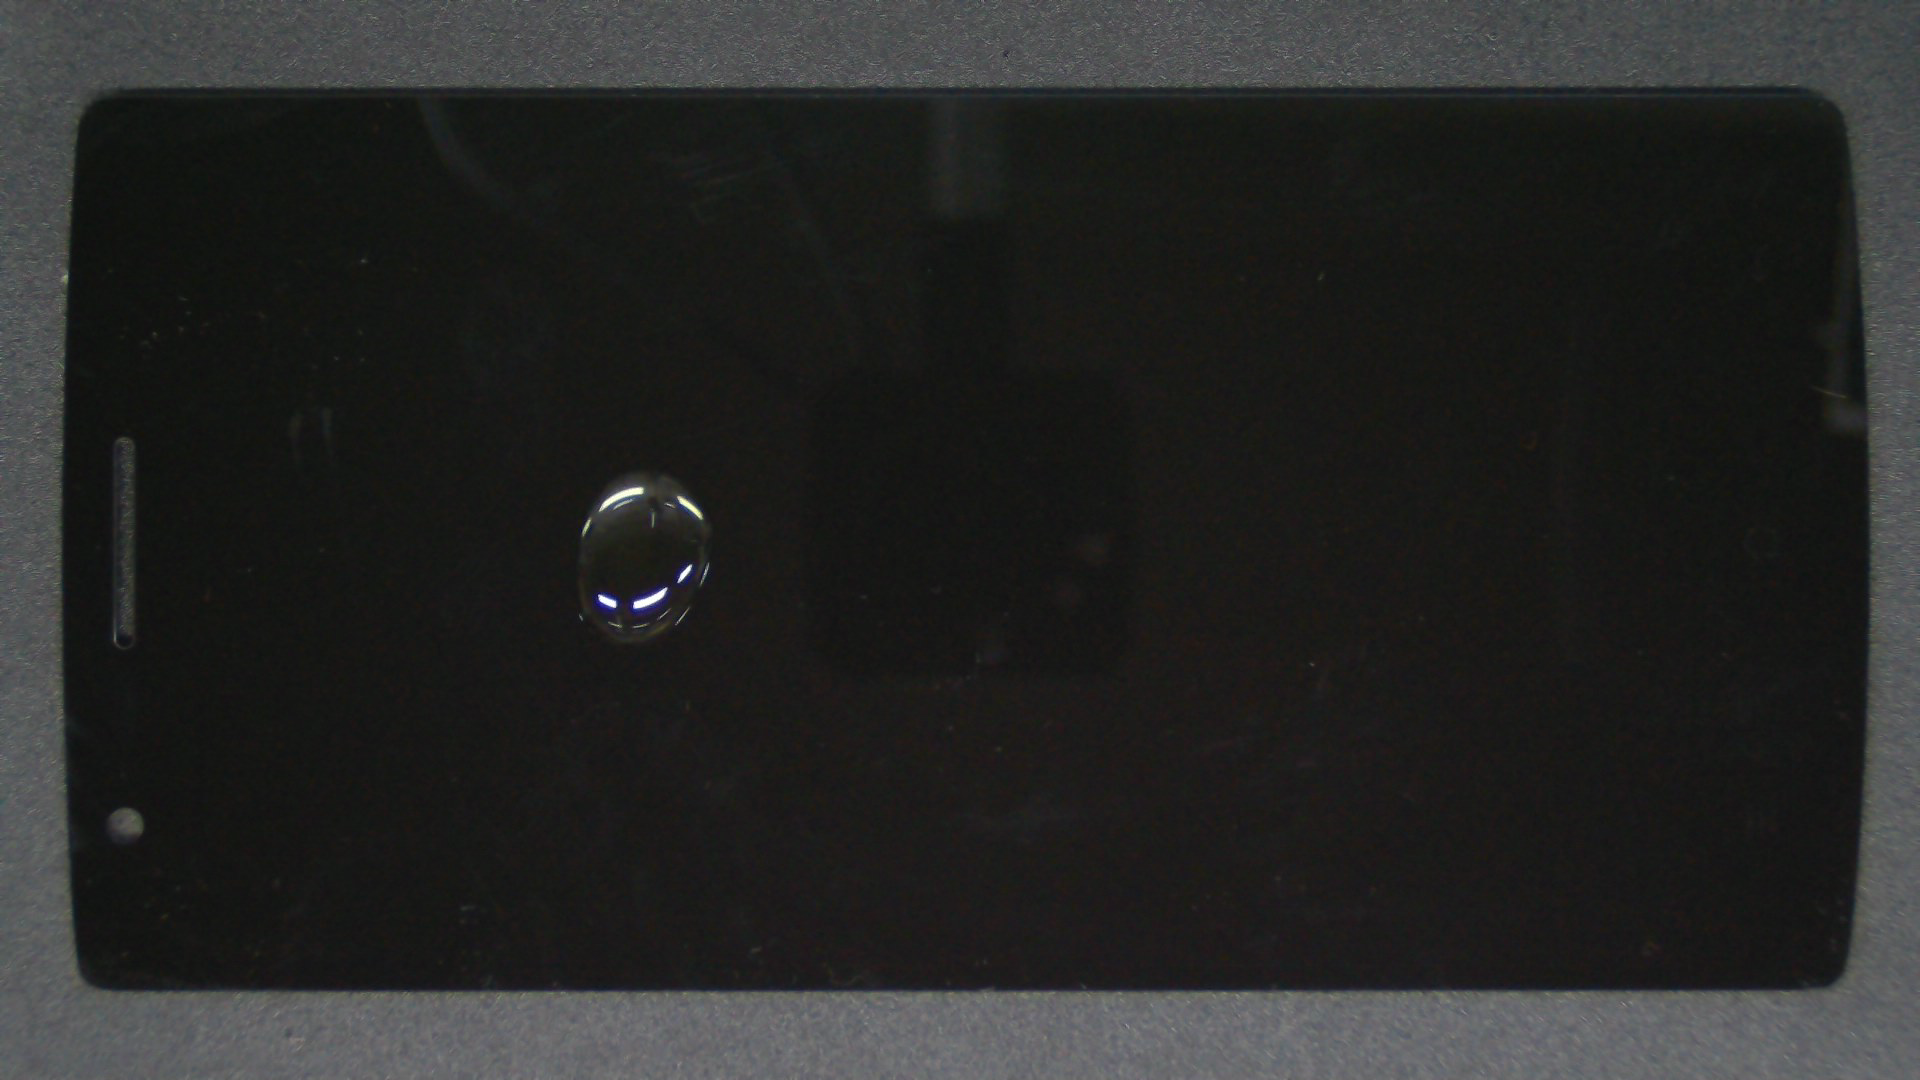defect: (575, 472, 713, 644)
